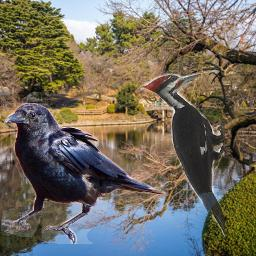Crow: (1, 103, 162, 244)
Woodpecker: (140, 73, 225, 237)
